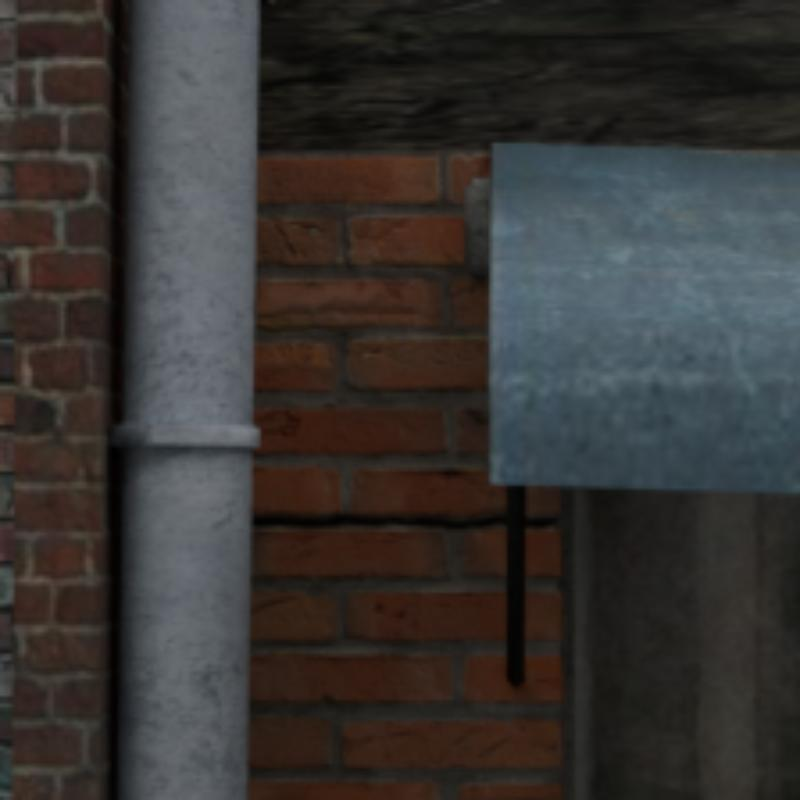pothole: (254, 514, 557, 529)
